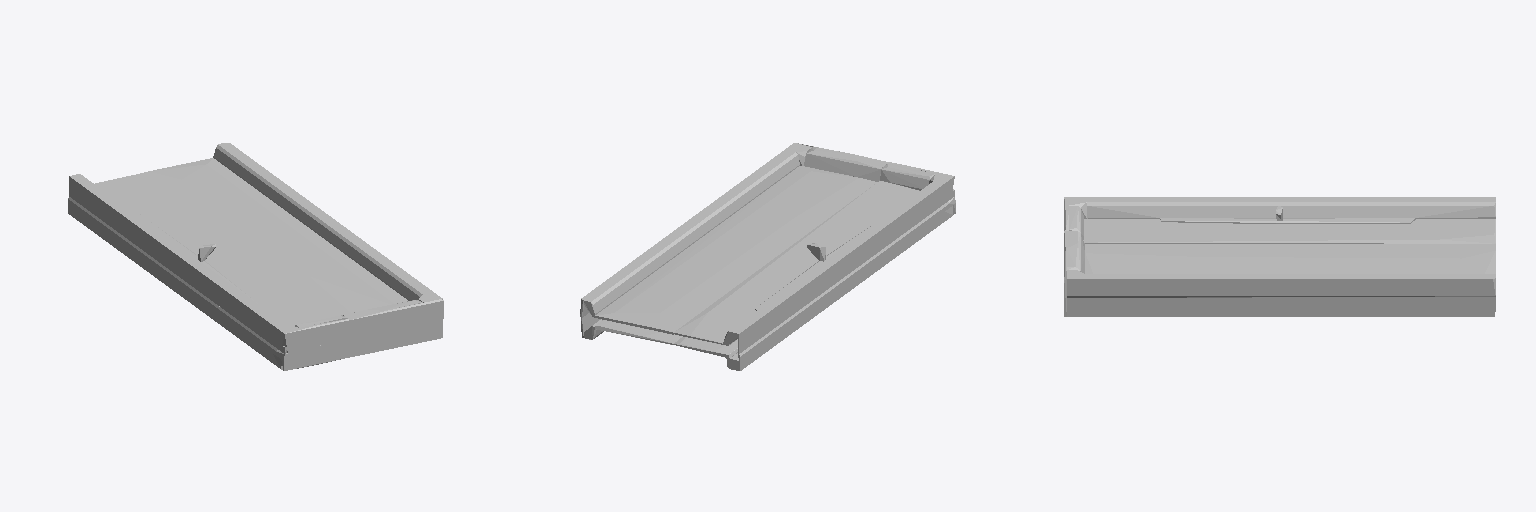
3 renders of one model, left to right at view 1: azimuth 30°, elevation 25°; view 2: azimuth 150°, elevation 25°; view 3: azimuth 270°, elevation 25°, orthographic.
Parts seen in each view (by area): view 1: convex_4, convex_20, convex_14, convex_5, convex_22, convex_0, convex_23, convex_18, convex_10, convex_11, convex_2, convex_15; view 2: convex_4, convex_20, convex_14, convex_22, convex_0, convex_23, convex_18, convex_17, convex_10, convex_26, convex_3, convex_15 (+1 smaller); view 3: convex_4, convex_20, convex_13, convex_15, convex_23, convex_14, convex_6, convex_17.
Part boxes in pixels (x1,y1,x2,y2): convex_4: (136,158,407,316); convex_20: (95,175,330,325); convex_14: (213,143,429,300); convex_5: (349,299,443,356); convex_22: (69,176,274,338); convex_0: (68,204,271,362); convex_23: (71,174,282,324); convex_18: (68,197,277,355); convex_10: (69,190,287,353); convex_11: (282,318,349,352); convex_2: (281,345,349,370); convex_15: (226,143,442,299); convex_4: (595,166,876,334); convex_20: (674,181,919,345); convex_14: (583,150,799,317); convex_22: (738,184,943,346); convex_0: (726,212,944,370); convex_23: (723,182,941,344); convex_18: (738,202,948,360); convex_17: (804,147,887,181); convex_10: (738,189,954,353); convex_26: (880,163,934,190); convex_3: (595,320,682,344); convex_15: (580,143,797,317); convex_4: (1085,244,1495,273); convex_20: (1083,219,1495,243); convex_13: (1067,297,1495,316); convex_15: (1067,278,1495,297); convex_23: (1087,198,1495,218); convex_14: (1085,274,1495,277); convex_6: (1160,218,1415,223); convex_17: (1067,231,1084,273).
Bounding box in the file's own units: 0.9786 × 0.2627 × 2.28.